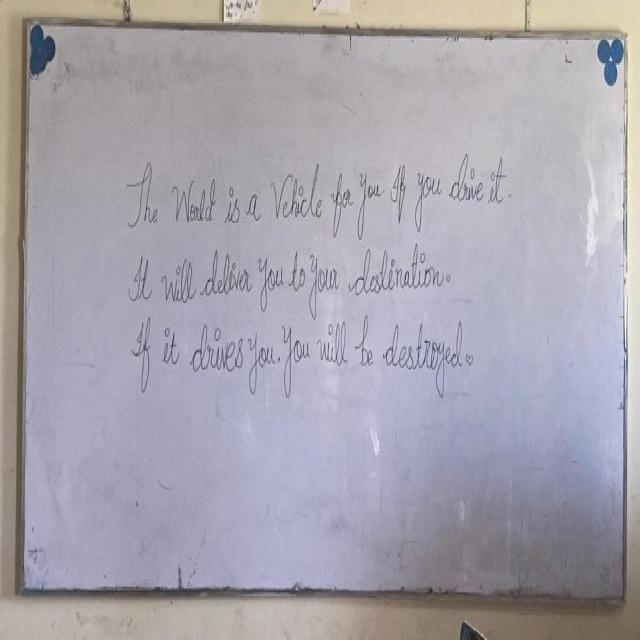White-board: (19, 27, 625, 598)
